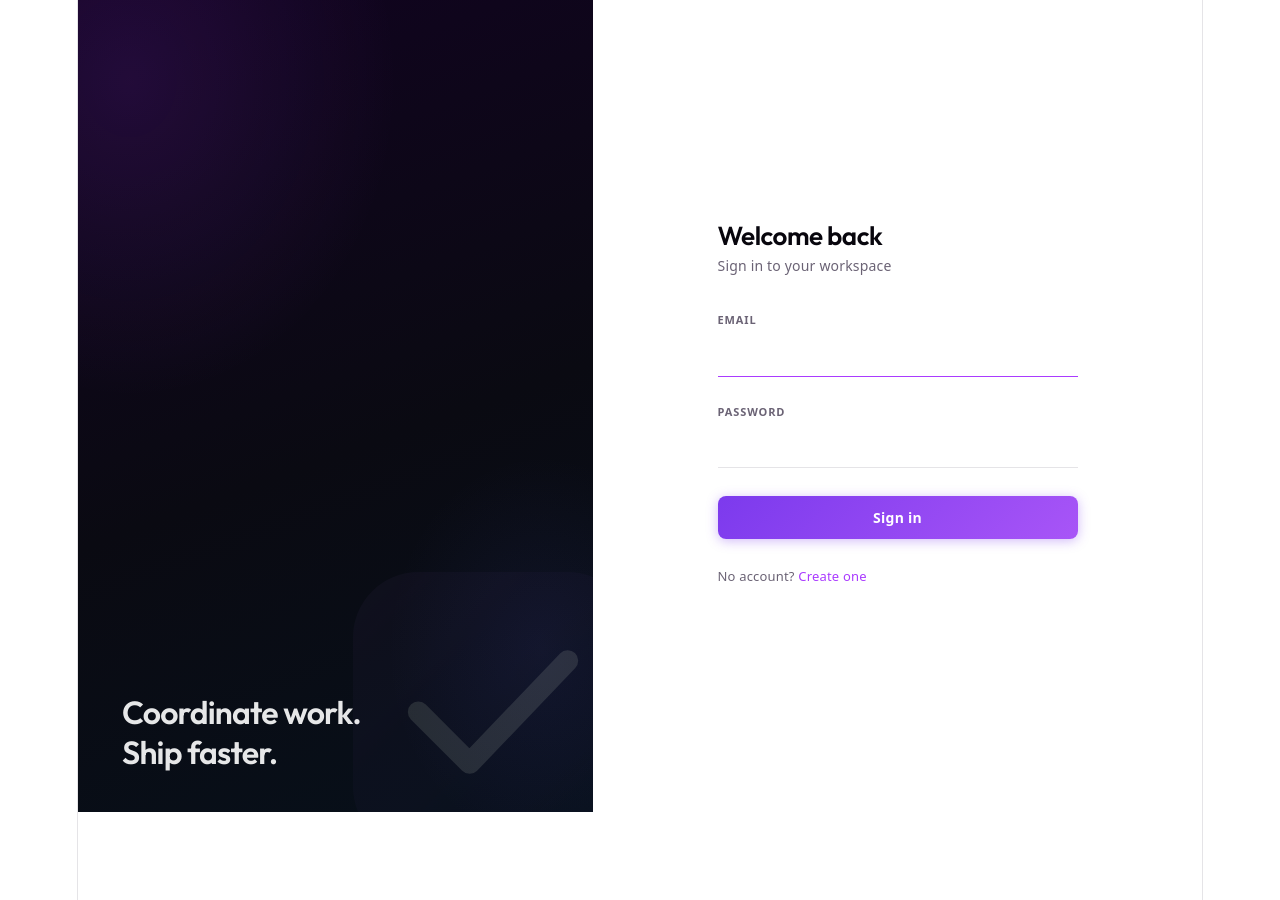
LoginPage › shows an error message on invalid credentials (401)
Type "a@b.com" into the field labelled "Email" at (898, 358), box x1=718 y1=340 x2=1078 y2=376
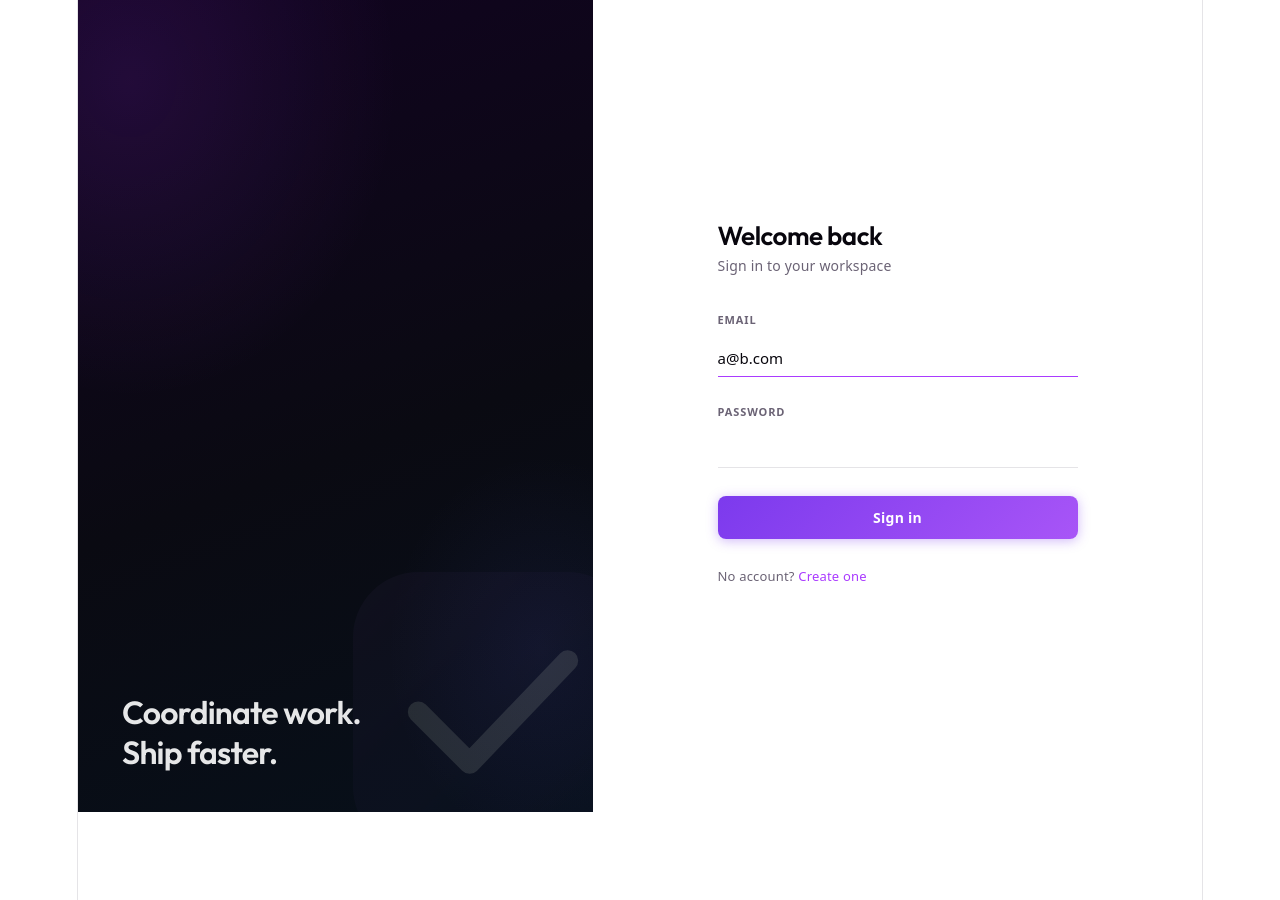
Type "wrong" into the password field labelled "Password" at (898, 449), box x1=718 y1=431 x2=1078 y2=468
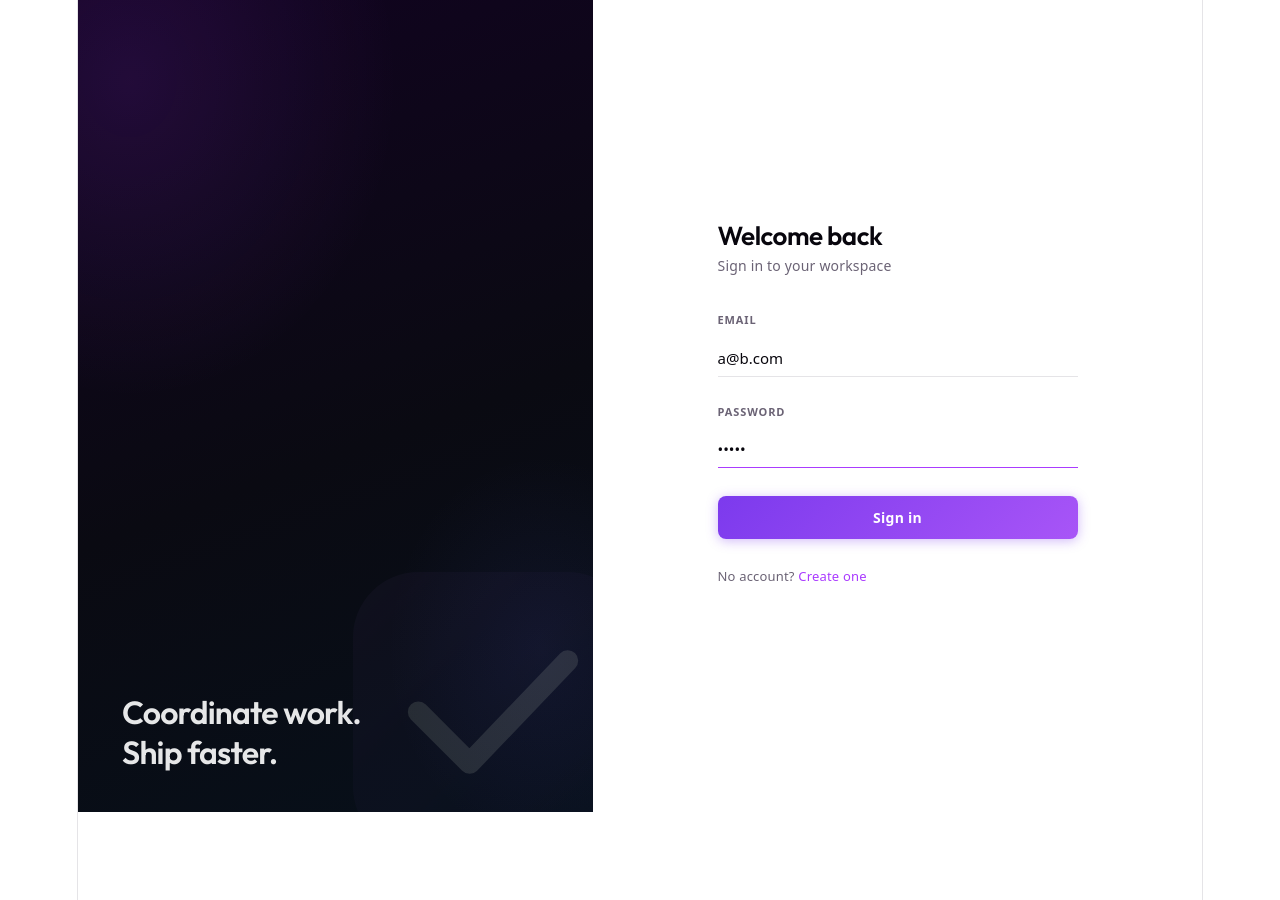
Click the button "Sign in" at (898, 517), box x1=718 y1=496 x2=1078 y2=539
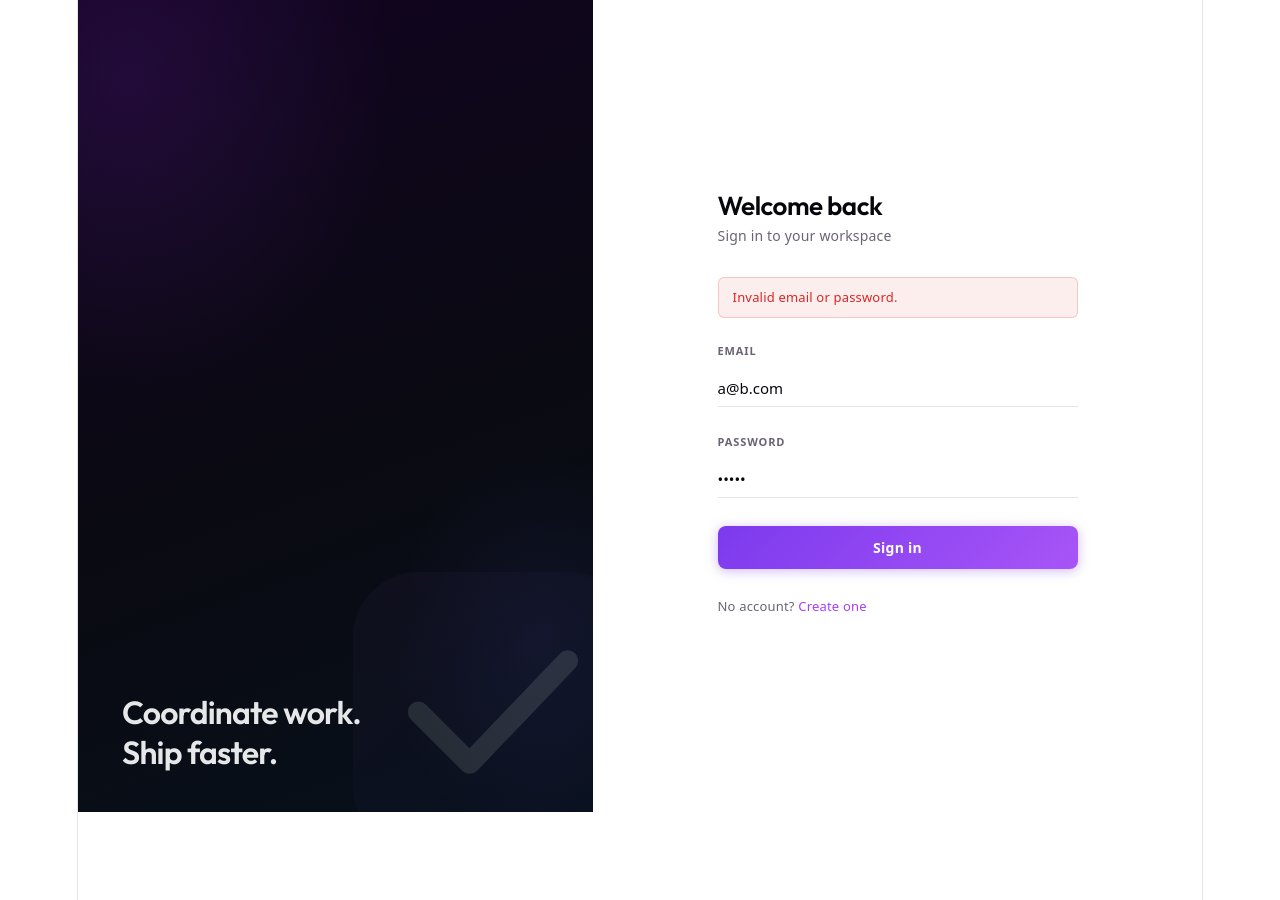
Now the text "Invalid email or password." is shown, box x1=718 y1=277 x2=1078 y2=318
